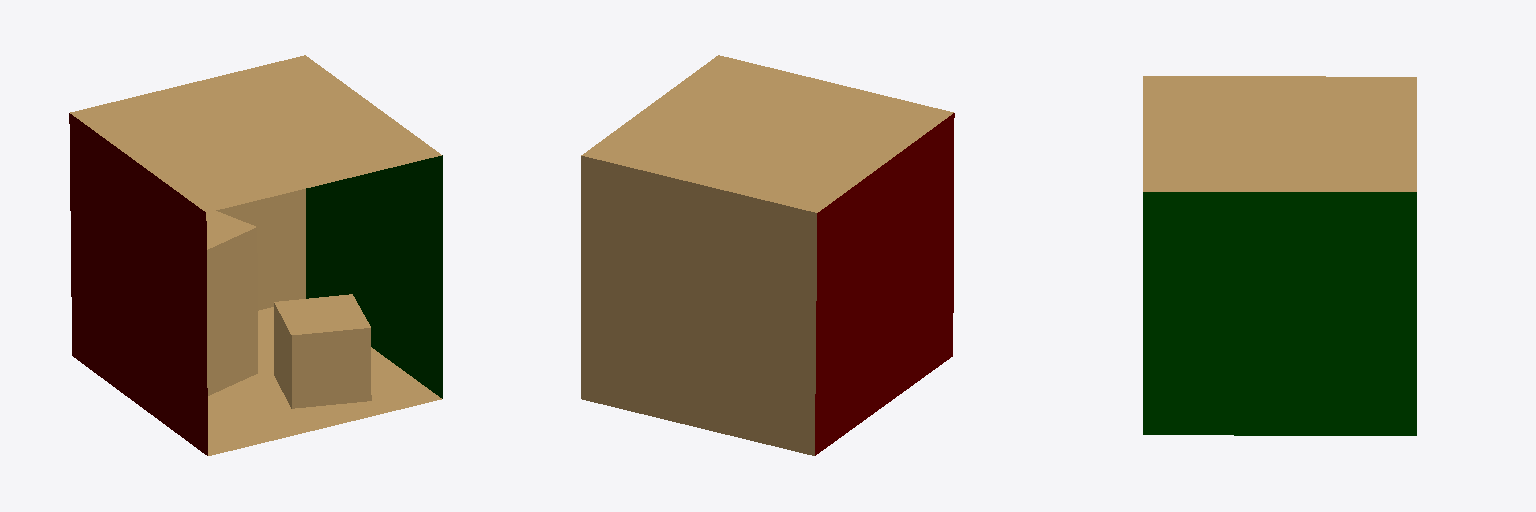
File: cornell_box.obj
3 views of the same model, side by side, from view 1: azimuth 30°, elevation 25°; view 2: azimuth 150°, elevation 25°; view 3: azimuth 270°, elevation 25° (orthographic).
Bounding box in the file's own units: 5.56 × 5.49 × 5.6.